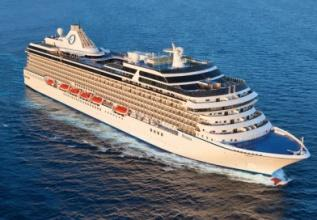youlun: (20, 18, 310, 175)
